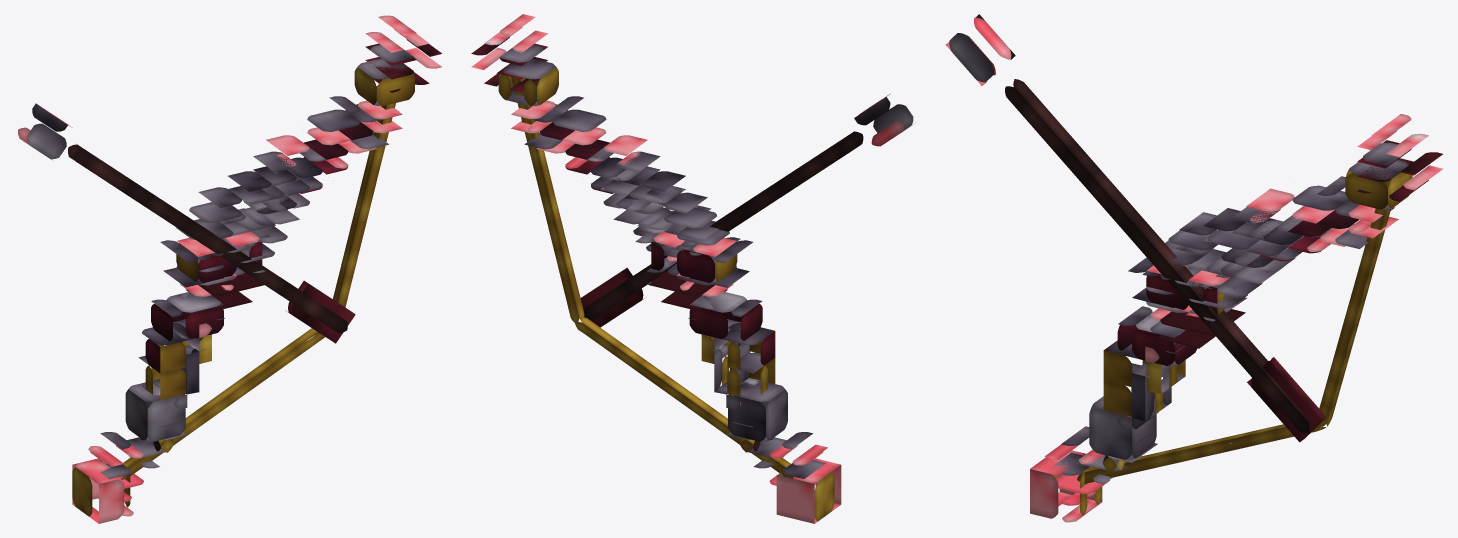
The model's file is crimson_bow_pulling_2.obj.
The picture shows the model from 3 angles, left to right: view 1: azimuth 30°, elevation 25°; view 2: azimuth 150°, elevation 25°; view 3: azimuth 330°, elevation 25°; orthographic projection. The views are drawn at different scales.
Parts seen in each view (by area): view 1: lit, fire; view 2: lit, fire; view 3: lit, fire.
Part boxes in pixels (x1,y1,x2,y2): lit: (18, 15, 442, 523); fire: (285, 280, 355, 343); lit: (471, 14, 914, 523); fire: (580, 267, 644, 327); lit: (945, 14, 1443, 522); fire: (1247, 357, 1326, 442).
Size of the model in its own units: 1.03 by 1 by 0.125.
